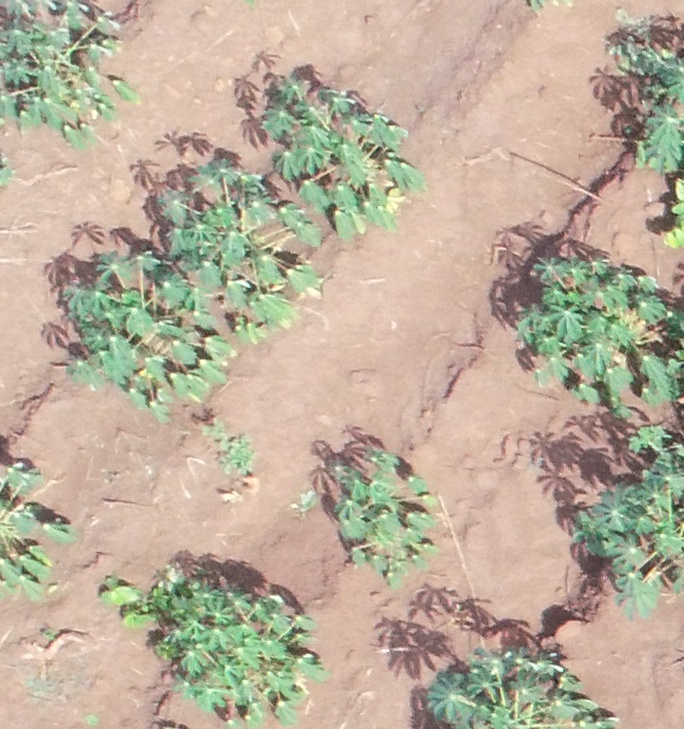stand: (136, 138, 308, 327), (145, 558, 319, 723), (66, 252, 225, 397), (1, 4, 125, 141), (314, 440, 436, 579)
